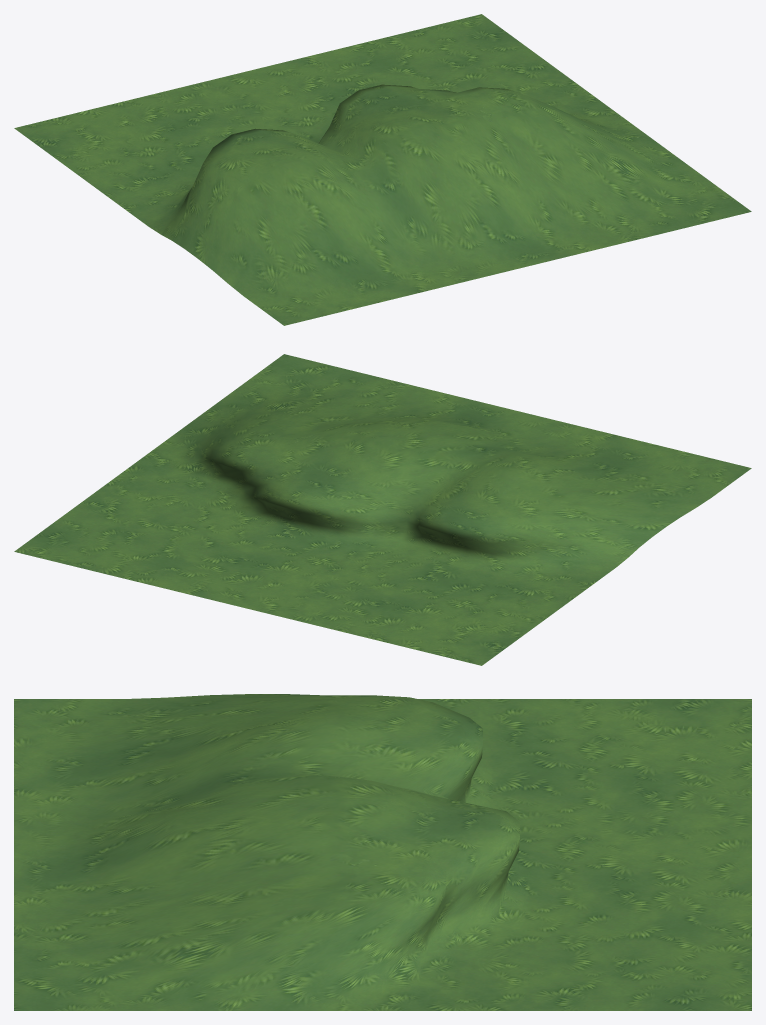
File: hills4.fbx
3 views of the same model, one above another, from view 1: azimuth 30°, elevation 25°; view 2: azimuth 150°, elevation 25°; view 3: azimuth 270°, elevation 25° (orthographic). The views are drawn at different scales.
Visible parts, largest first — view 1: pPlane3; view 2: pPlane3; view 3: pPlane3.
Boxes of the visible parts, x1,y1,x2,y2 form: pPlane3: (14, 14, 751, 325); pPlane3: (14, 354, 751, 665); pPlane3: (14, 694, 751, 1010).
Bounding box in the file's own units: 24.06 × 2.52 × 24.06.
Materials: 1 (1 with a texture image).
